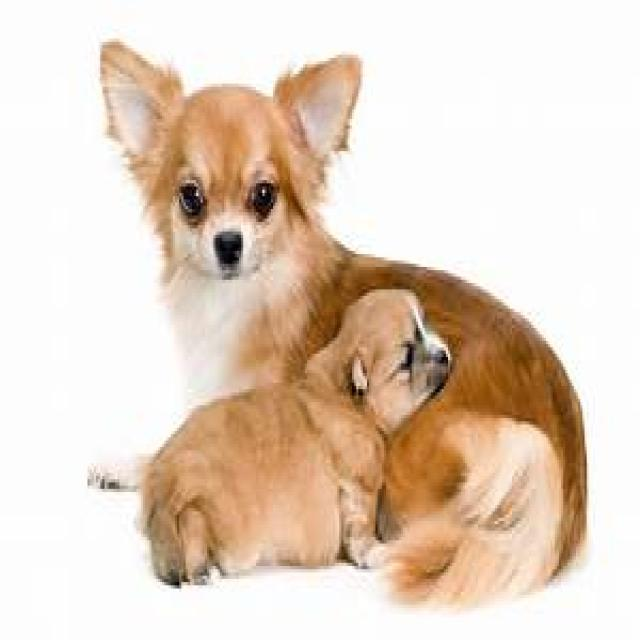dog: (98, 39, 587, 614), (141, 289, 452, 585)
